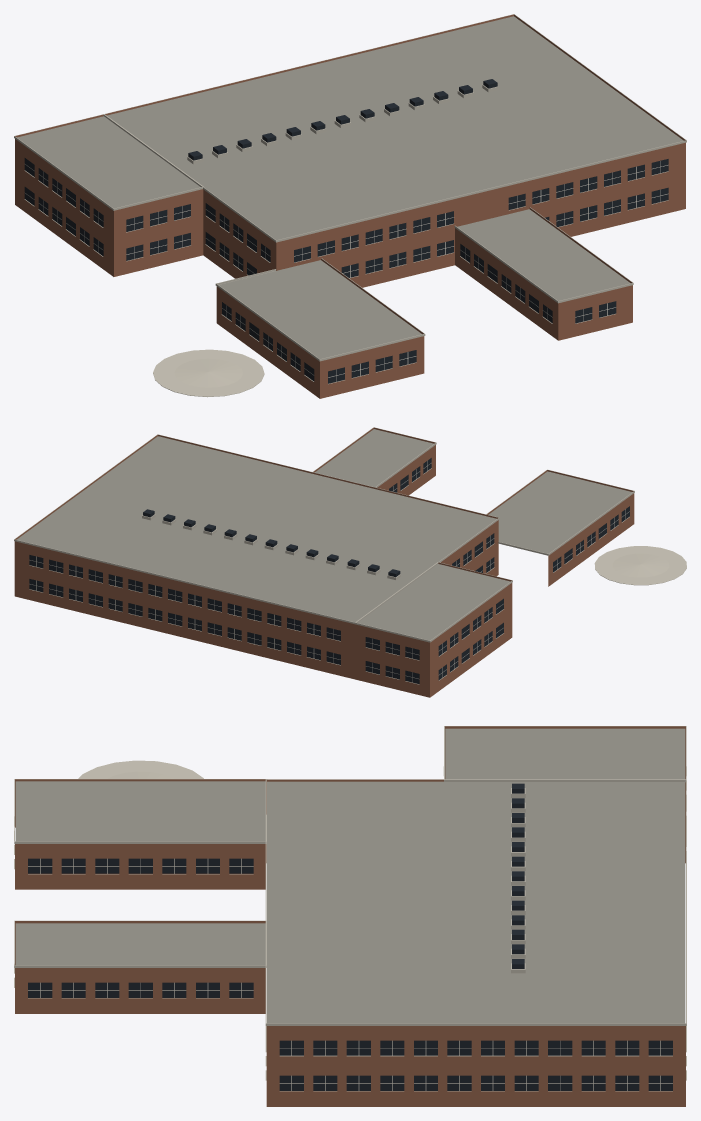
Rendered from mount-st-mary-academy-1950s.glb.
3 views of the same model, one above another, from view 1: azimuth 30°, elevation 25°; view 2: azimuth 150°, elevation 25°; view 3: azimuth 270°, elevation 25° (orthographic). The views are drawn at different scales.
Visible parts, largest first — view 1: mount_roofflat, mount_brick3, mount_glass, mount_conc, mount_walk, mount_sash; view 2: mount_roofflat, mount_brick3, mount_glass, mount_conc, mount_walk, mount_sash; view 3: mount_roofflat, mount_brick3, mount_glass, mount_conc, mount_walk, mount_sash.
Part boxes in pixels (bbox=[...]): mount_roofflat: bbox=[17, 16, 683, 358]; mount_brick3: bbox=[15, 14, 685, 398]; mount_glass: bbox=[24, 79, 668, 383]; mount_conc: bbox=[14, 14, 686, 384]; mount_walk: bbox=[153, 349, 264, 397]; mount_sash: bbox=[25, 161, 668, 381]; mount_roofflat: bbox=[17, 429, 632, 640]; mount_brick3: bbox=[14, 427, 634, 697]; mount_glass: bbox=[29, 458, 629, 684]; mount_conc: bbox=[14, 427, 634, 684]; mount_walk: bbox=[594, 546, 686, 585]; mount_sash: bbox=[29, 461, 629, 682]; mount_roofflat: bbox=[15, 728, 685, 1023]; mount_brick3: bbox=[15, 726, 685, 1106]; mount_glass: bbox=[28, 783, 672, 1090]; mount_conc: bbox=[14, 726, 686, 1091]; mount_walk: bbox=[78, 760, 203, 778]; mount_sash: bbox=[28, 858, 672, 1090].
Bounding box in the file's own units: 77.58 × 9.5 × 64.2.
